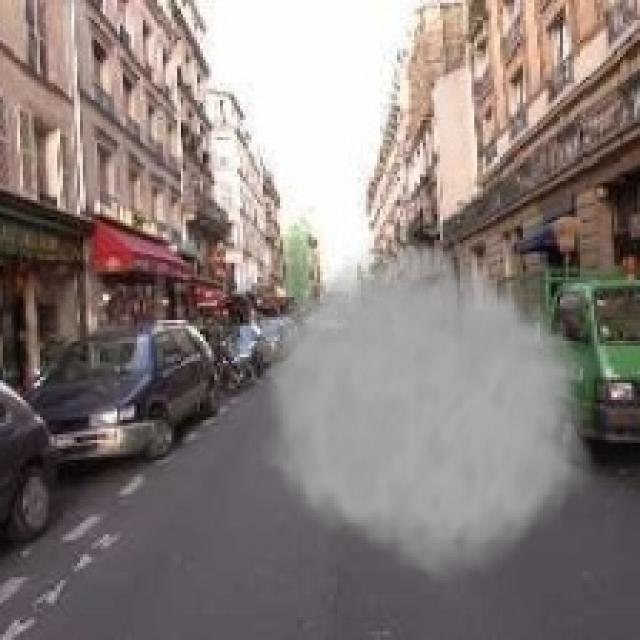Smoke: (245, 228, 598, 592)
